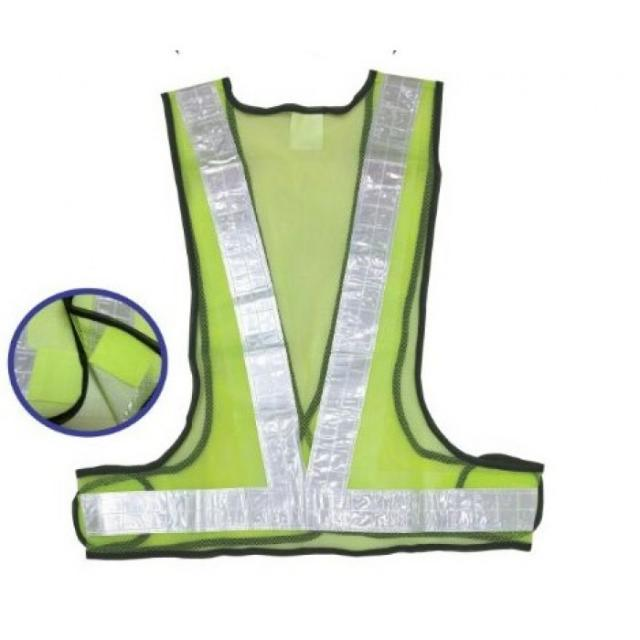Reflective-Jacket: (28, 55, 580, 595)
